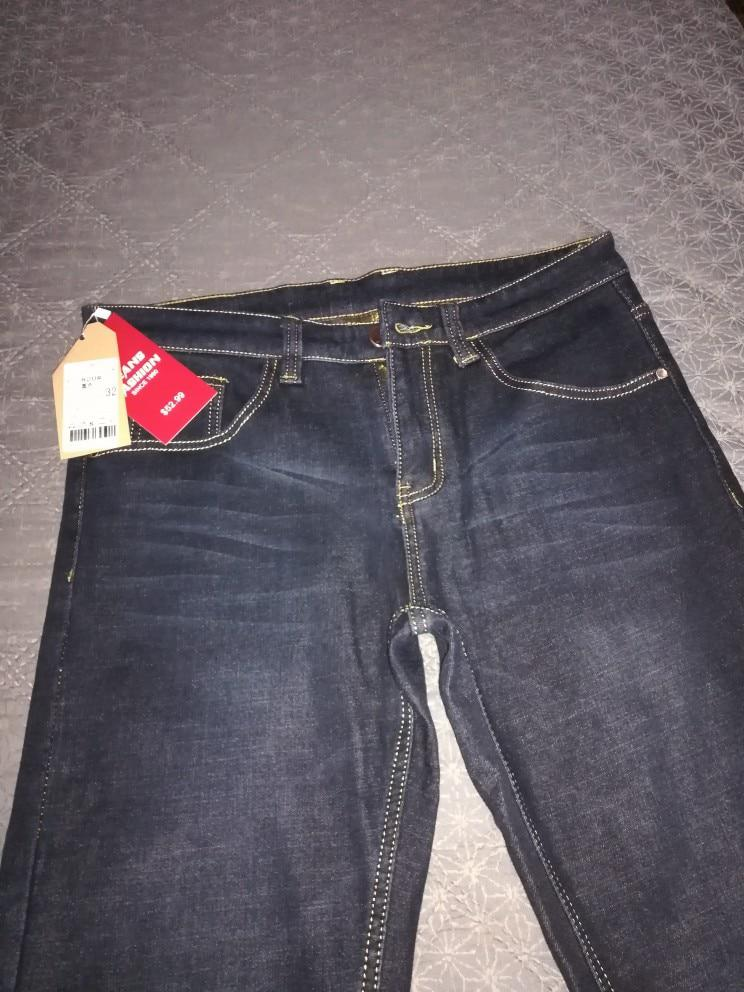jeans: (34, 256, 744, 945)
